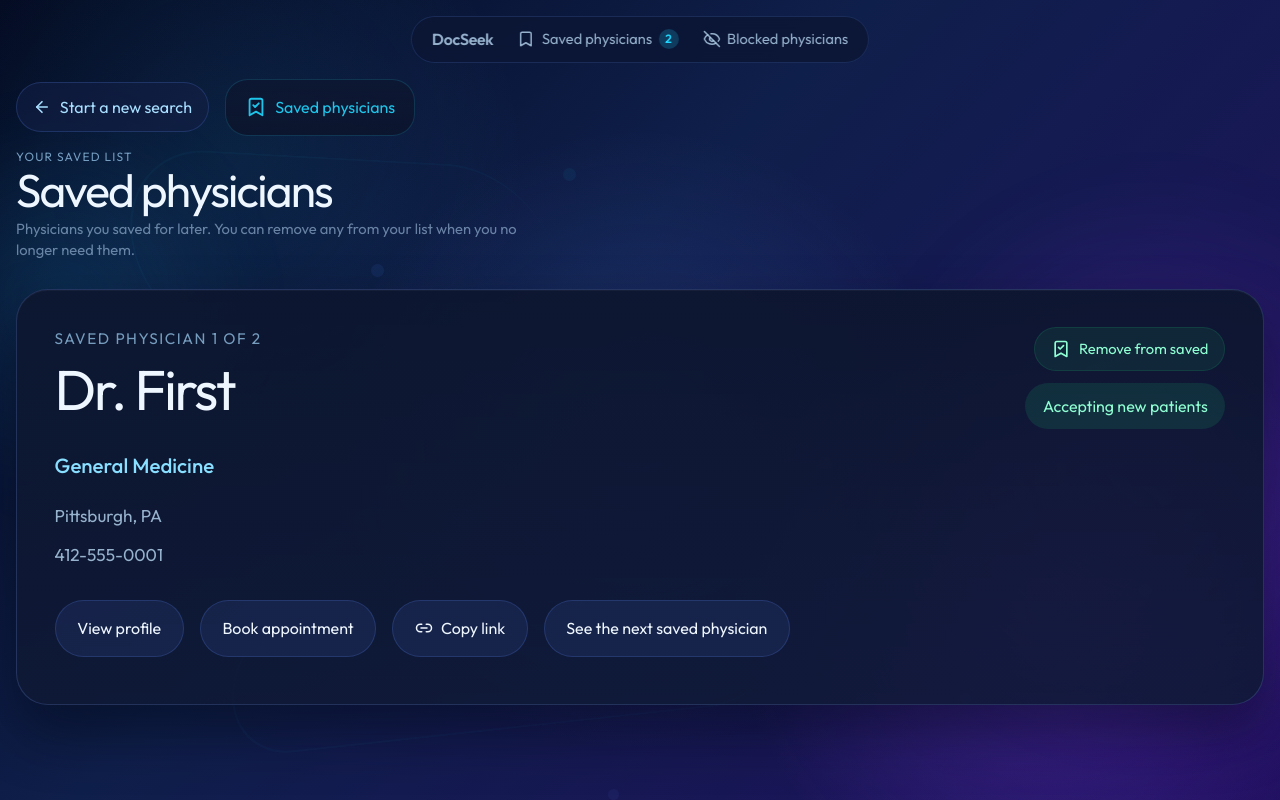
Test: SavedRoutePage › advances to the next saved doctor when the next button is clicked
Click the button "See the next saved physician" at (667, 628), box x1=544 y1=600 x2=790 y2=657
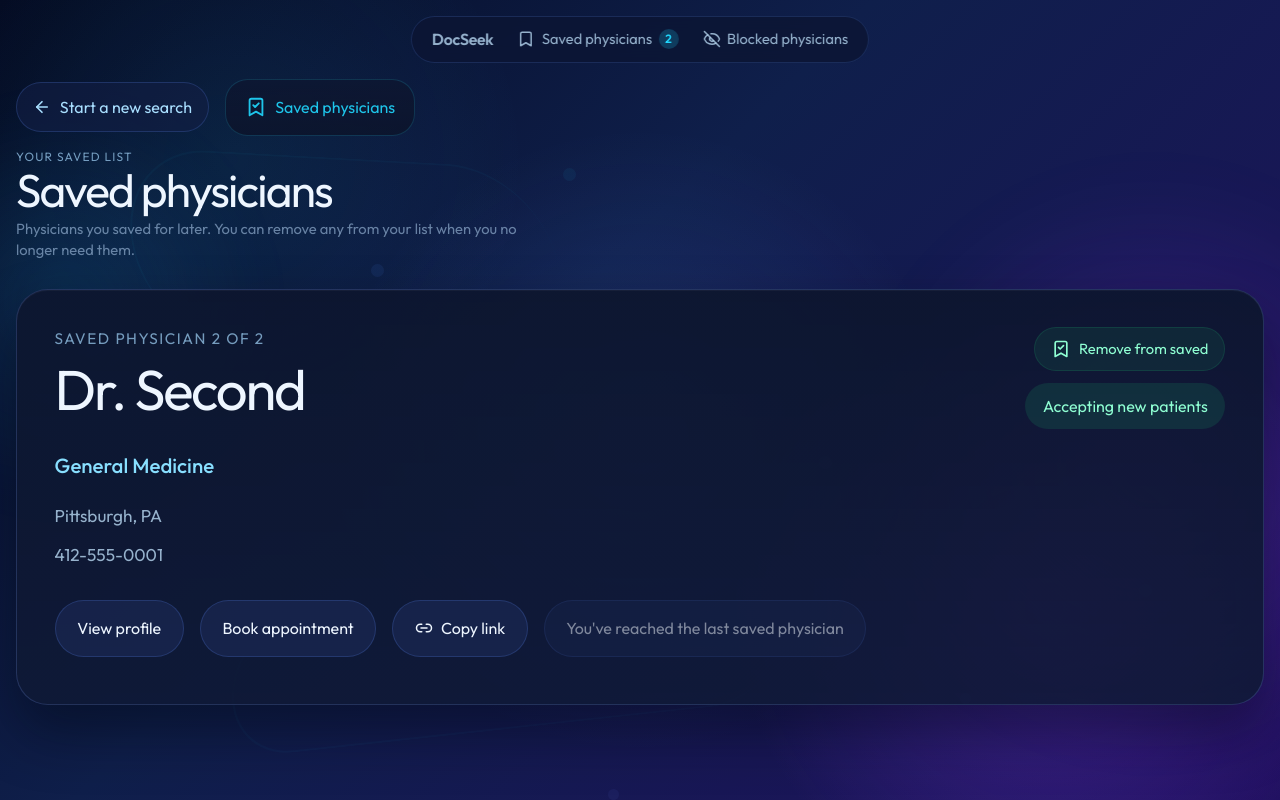
Expected: the heading "Dr. Second" is shown, x1=55 y1=362 x2=305 y2=418
